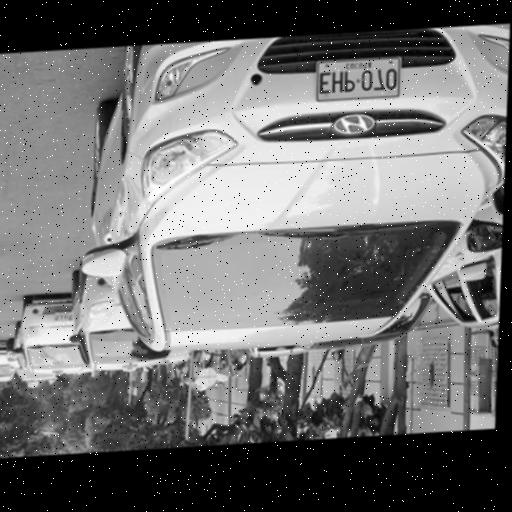placa: (316, 57, 401, 100)
